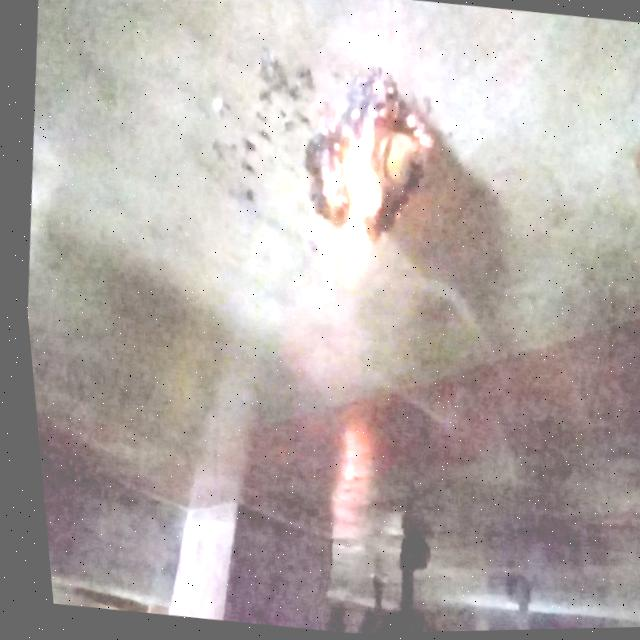Fire: (316, 94, 387, 284)
